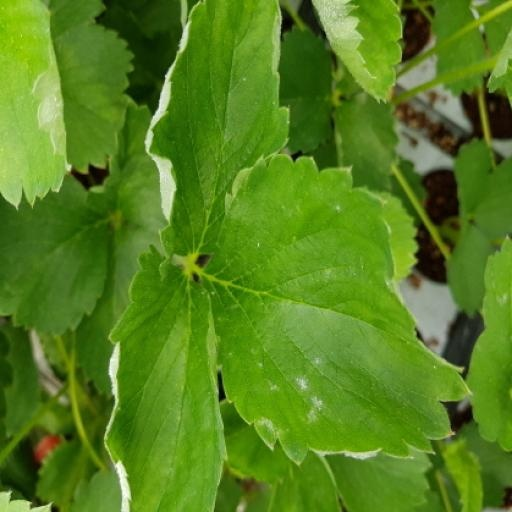Powdery Mildew Leaf: (199, 151, 474, 467), (145, 0, 291, 278), (103, 243, 229, 511), (313, 0, 403, 106)
